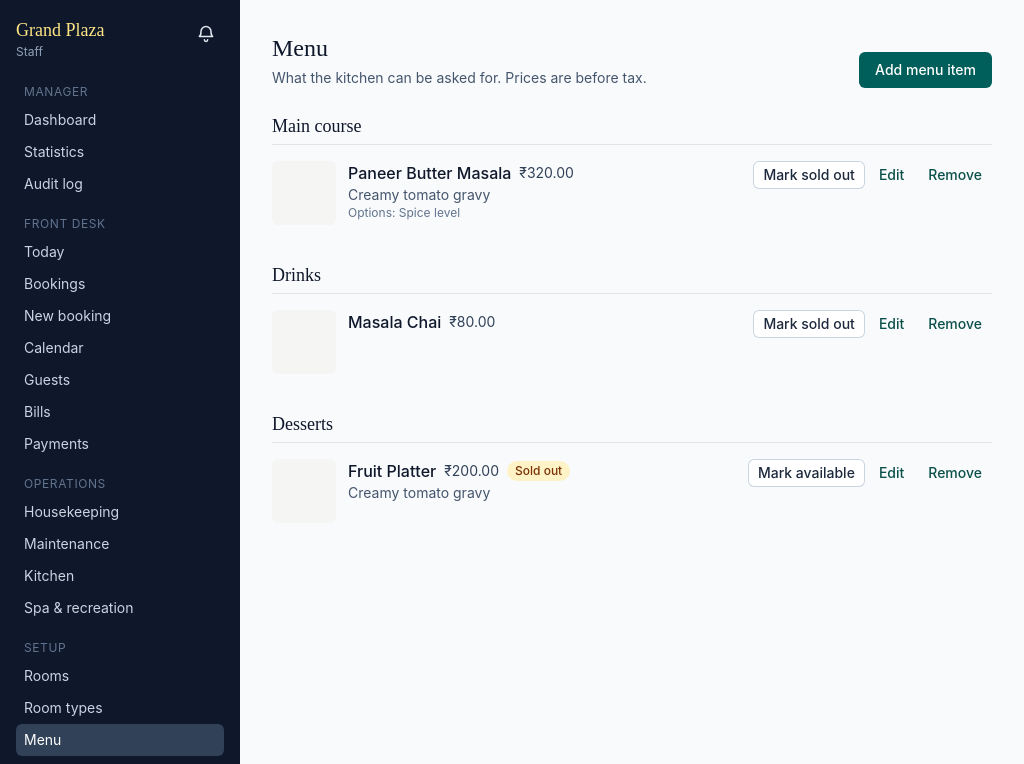
Test: editing and removing › fills the form from the item and sends the changed price in paise
Later steps or results of the test are not shown.
Step 1. Click the button with aria-label "Edit Masala Chai" → (892,324), box [869,310,914,338]
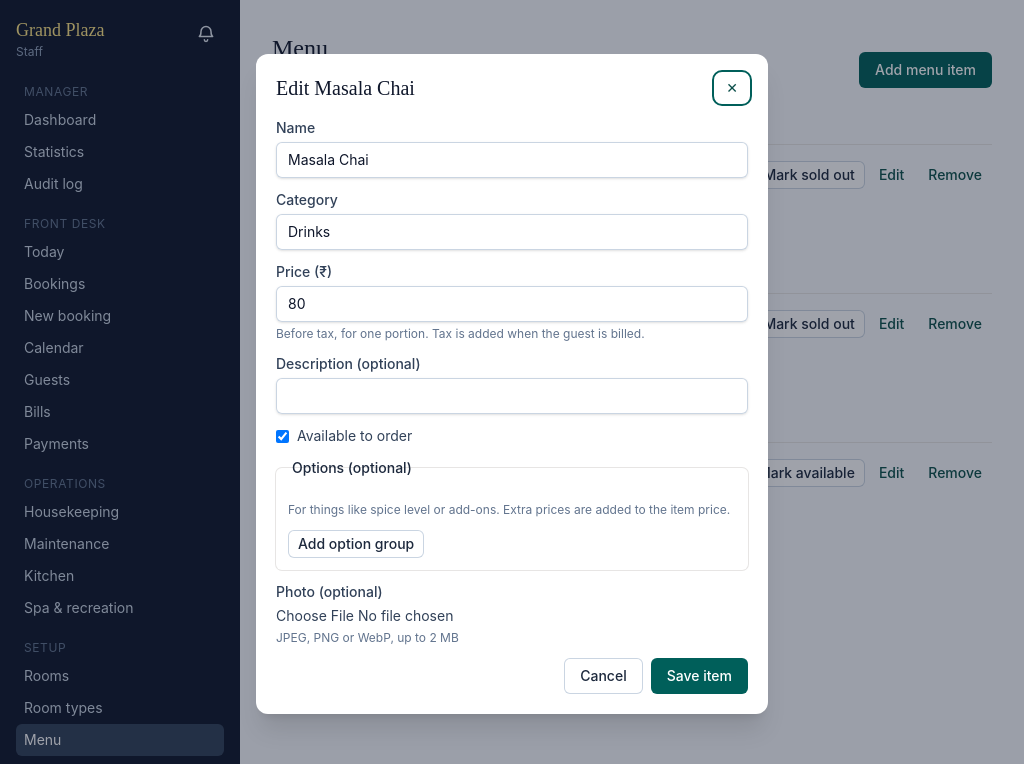
Check: the field labelled "Name" holds "Masala Chai", box [276,142,748,178]
Check: the field labelled "Price (₹)" holds "80", box [276,286,748,322]
